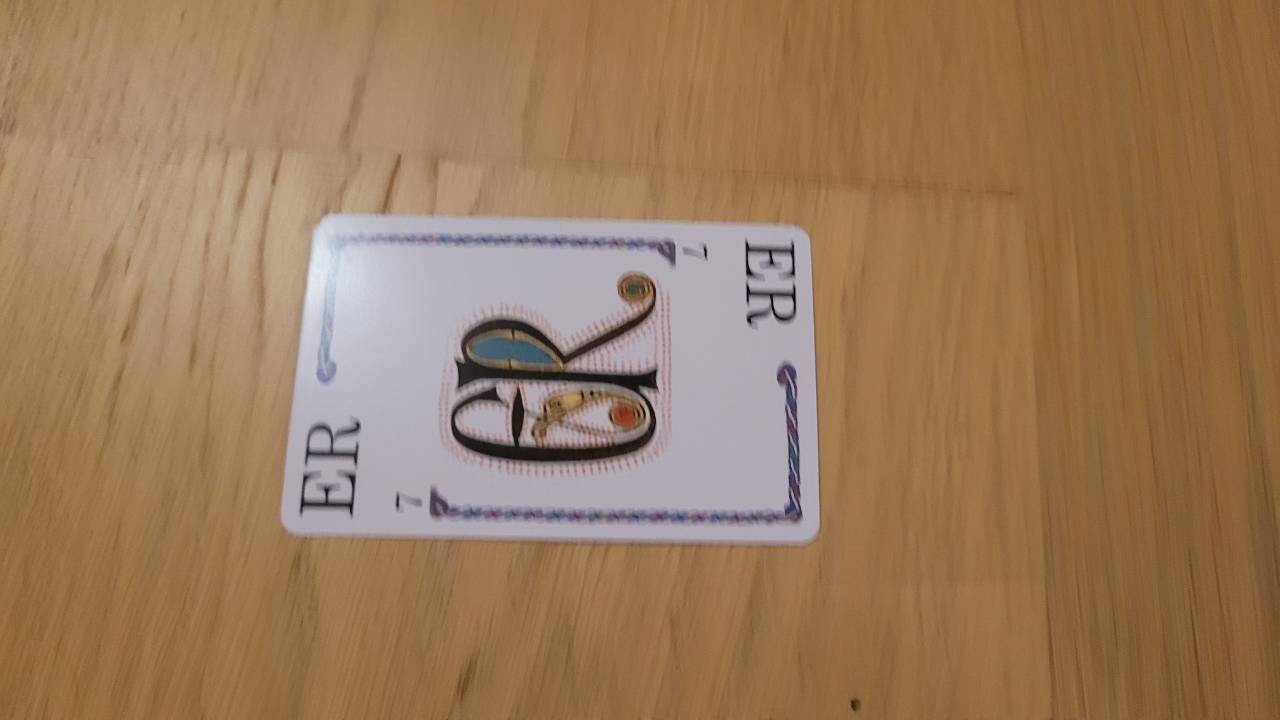quiddler_card: (273, 188, 862, 581)
